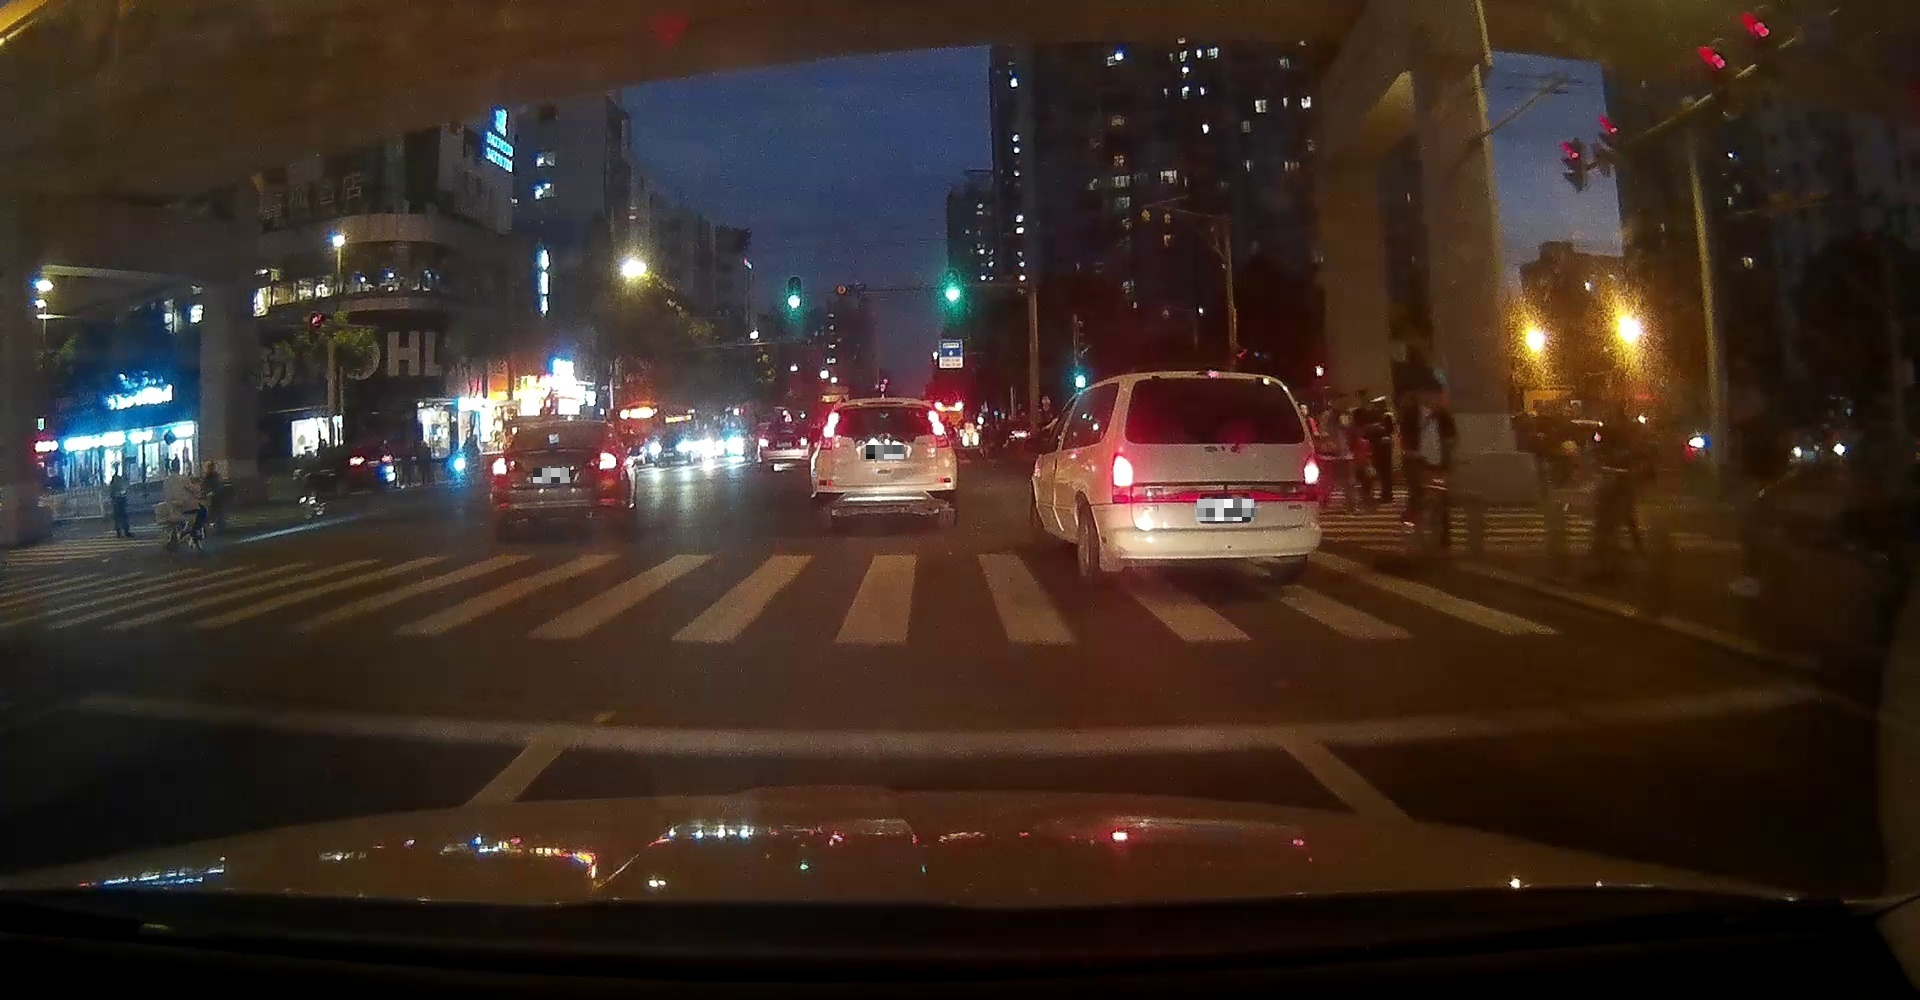L_light: (1112, 452, 1134, 487), (822, 410, 841, 438), (491, 456, 509, 476), (759, 437, 770, 447)
R_light: (1303, 453, 1321, 486), (926, 409, 945, 437), (599, 452, 616, 470), (800, 437, 809, 445)
T_light: (1199, 372, 1225, 381), (874, 400, 894, 406), (551, 423, 566, 428), (783, 424, 792, 426)
night-no: (1109, 371, 1321, 584), (815, 397, 952, 529), (491, 420, 618, 530), (758, 423, 810, 472)
plate_1: (533, 468, 570, 484)
plate_2: (866, 445, 904, 459)
plate_3: (1197, 499, 1255, 522)
